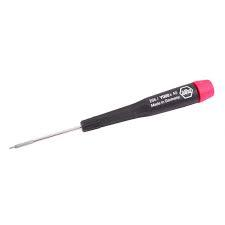screwdriver: (9, 78, 214, 148)
